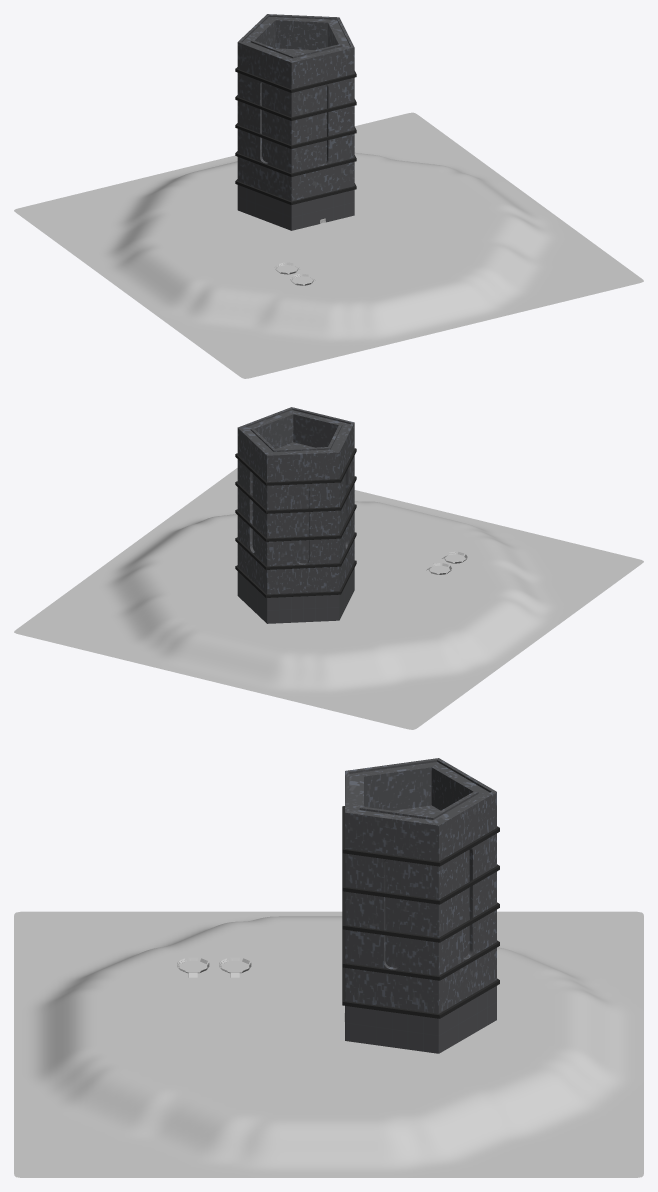
The model's file is vladikavkaz.fbx.
3 renders of one model, top to bottom at view 1: azimuth 30°, elevation 25°; view 2: azimuth 150°, elevation 25°; view 3: azimuth 270°, elevation 25°, orthographic. The views are drawn at different scales.
Parts seen in each view (by area): view 1: island, prison, rings; view 2: island, prison, rings; view 3: island, prison, rings.
Boxes of the visible parts, left/top/right/bottom form: island: left=14, top=112, right=643, bottom=378; prison: left=237, top=14, right=354, bottom=230; rings: left=235, top=67, right=356, bottom=204; island: left=14, top=468, right=643, bottom=729; prison: left=237, top=407, right=354, bottom=623; rings: left=235, top=448, right=356, bottom=597; island: left=14, top=911, right=643, bottom=1177; prison: left=345, top=758, right=496, bottom=1053; rings: left=342, top=806, right=499, bottom=1018.
Size of the model in its own units: 30000 by 13301 by 30000.
